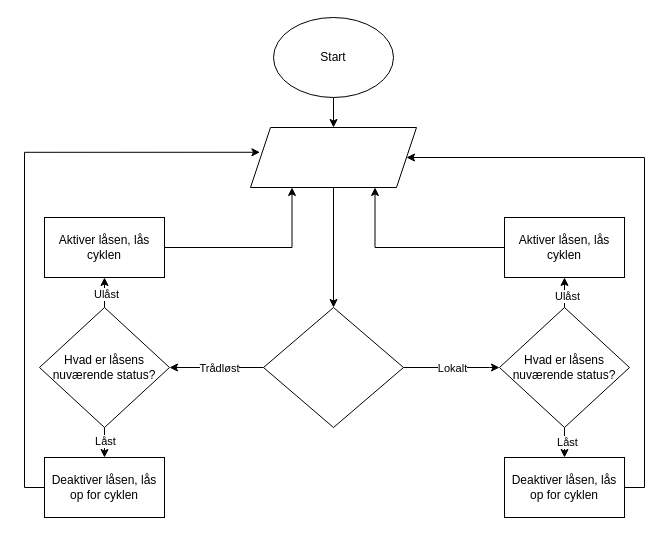
Some shapes in this 670 by 535 pixel diagram are drawn without their labels. The shapes that lost their labels are listed below. From the top down, each one's centre as x and y in pixels, then its label:
At [333,157]: "Input fra brugeren: Benyt lås".
At [333,367]: "Er input lokalt eller trådløst?".
